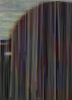No Stopping: (4, 4, 68, 95)
